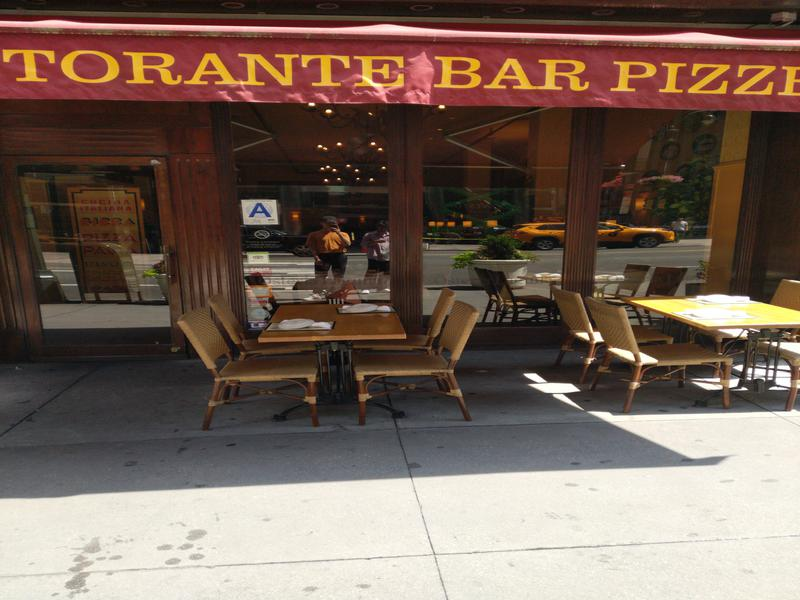door: (2, 149, 194, 362)
